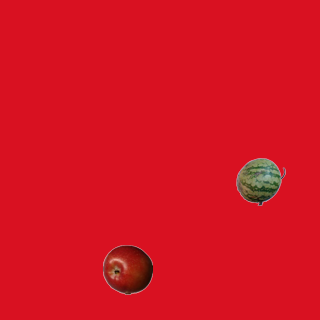Apple Braeburn: (102, 244, 152, 294)
Watermelon: (235, 156, 285, 206)
